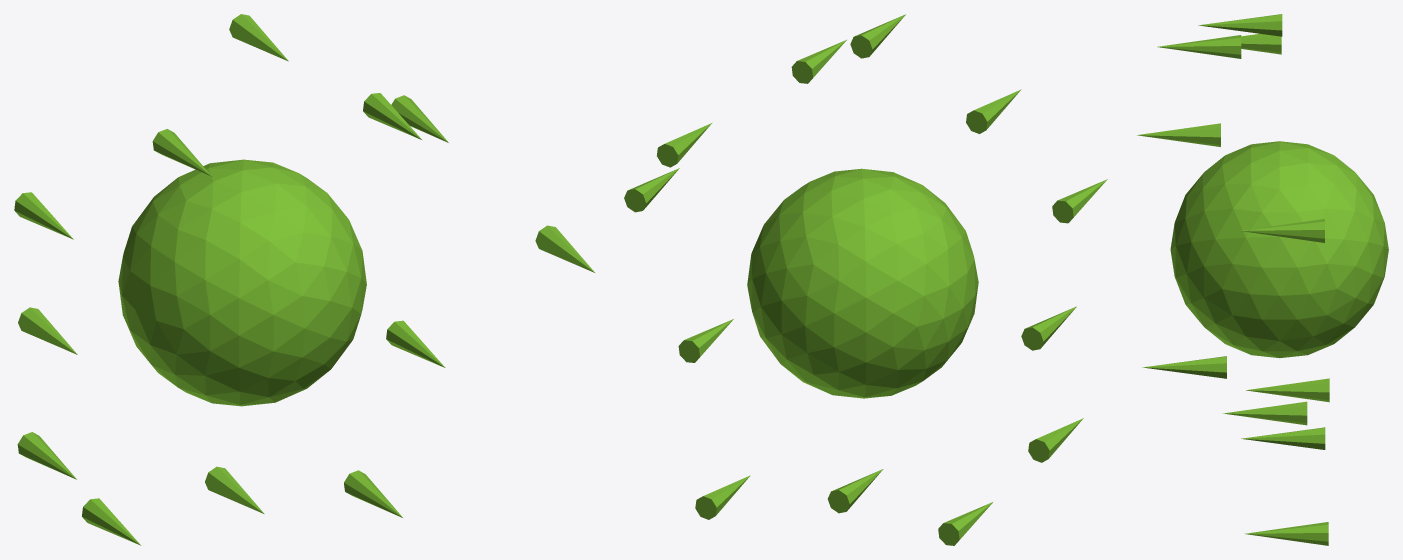
Rendered from sport_107.glb.
3 renders of one model, left to right at view 1: azimuth 30°, elevation 25°; view 2: azimuth 150°, elevation 25°; view 3: azimuth 270°, elevation 25°, orthographic. The views are drawn at different scales.
Visible parts, largest first — view 1: world; view 2: world; view 3: world.
Part boxes in pixels (x1,y1,x2,y2): world: (14,14,594,545); world: (624,14,1107,545); world: (1137,14,1388,545).
Size of the model in its own units: 2.15 by 2.14 by 1.04.
